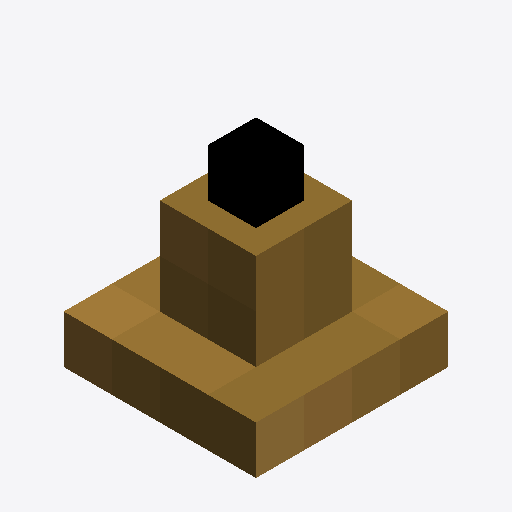
Isometric view (azimuth 45°, elevation 35.3°) of a Minecraft model made of 3 cuboids, textured from the same repository.
Parts seen in each view (by area): element 1, element 2, element 3.
Boxes of the visible parts, x1,y1,x2,y2 form: element 1: [64, 256, 447, 477]; element 2: [160, 173, 351, 366]; element 3: [208, 118, 303, 227].
Bounding box in the file's own units: 4 × 4 × 4.